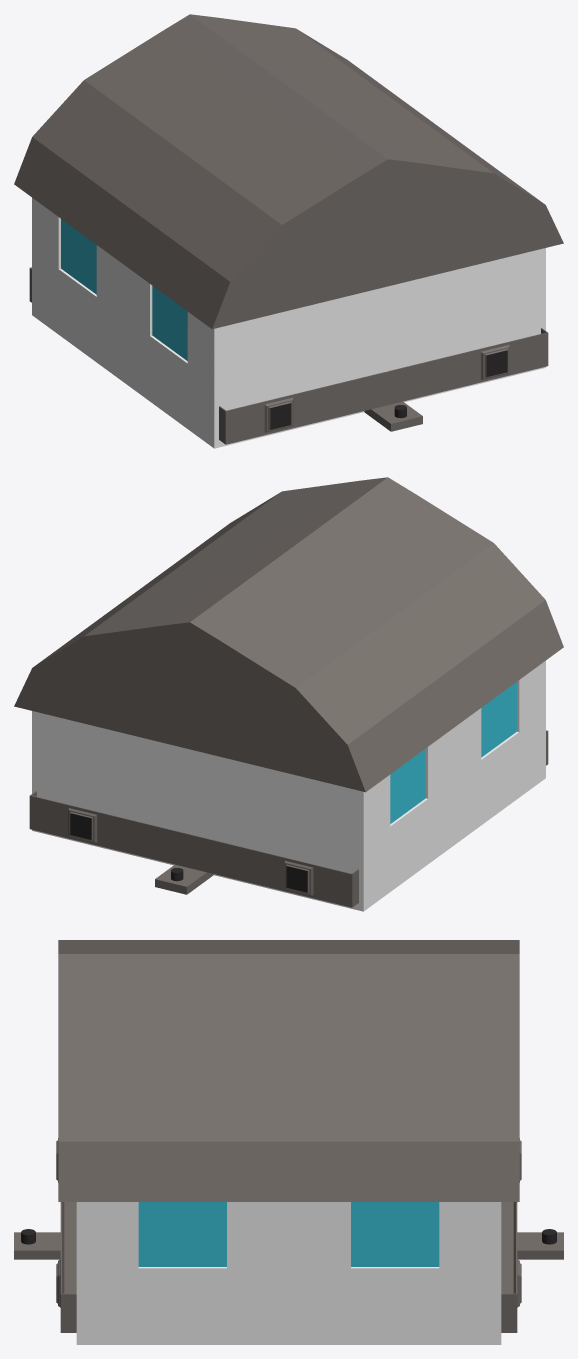
File: Vagao.glb
3 renders of one model, top to bottom at view 1: azimuth 30°, elevation 25°; view 2: azimuth 150°, elevation 25°; view 3: azimuth 270°, elevation 25°, orthographic. The views are drawn at different scales.
Visible parts, largest first — view 1: vagao; view 2: vagao; view 3: vagao.
Part boxes in pixels (x1,y1,x2,y2): vagao: (14, 14, 563, 448); vagao: (14, 477, 563, 911); vagao: (14, 940, 563, 1344).
Size of the model in its own units: 1.02 by 0.7029 by 1.18.
